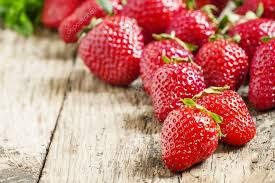ripe: (77, 17, 144, 87), (196, 80, 261, 152), (158, 108, 218, 174), (147, 56, 204, 117), (191, 35, 254, 90), (240, 32, 273, 116), (138, 38, 191, 84), (58, 0, 110, 45), (164, 5, 208, 55), (118, 1, 171, 42), (230, 15, 272, 49), (37, 0, 84, 25)
